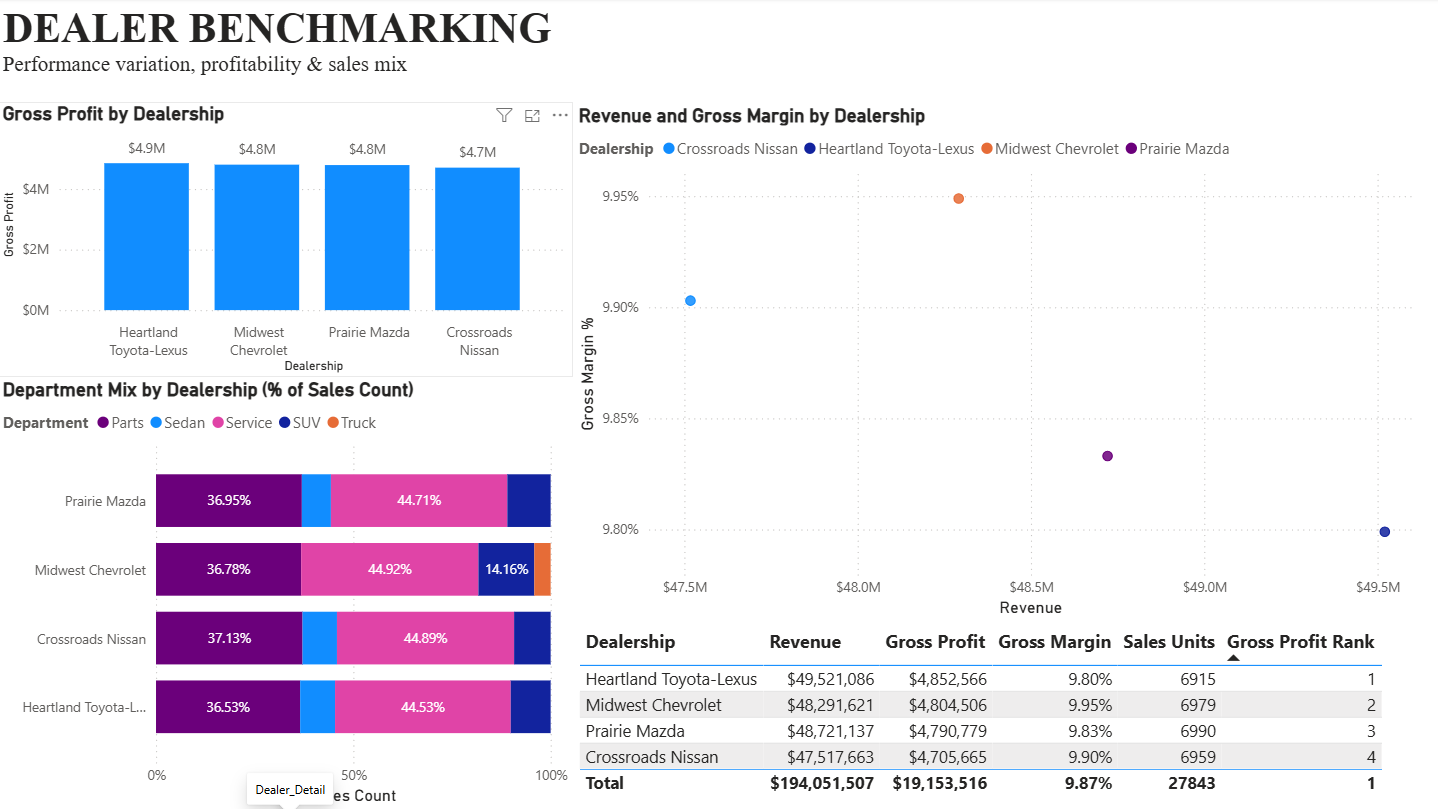

Layout of this report page (visuals, bound fields, positions):
{"tool":"powerbi","page":{"name":"Dealer_Detail","canvas":[1280,720],"ordinal":2},"visuals":[{"type":"textbox","box":[0,0,510.9,92.7],"z":0},{"type":"clusteredColumnChart","fields":{"Category":["dim_dealer.dealership_name"],"Y":["measures_table.Rebate_Adjusted_Gross_Profit"]},"box":[0,91.8,510.9,244.5],"z":1000},{"type":"hundredPercentStackedBarChart","title":"Department Mix by Dealership (% of Sales Count)","fields":{"Category":["dim_dealer.dealership_name"],"Y":["measures_table.Sales_Count"],"Series":["dim_sku.department"]},"box":[0,337.3,510.9,383.6],"z":2000},{"type":"scatterChart","title":"Revenue and Gross Margin by Dealership","fields":{"X":["measures_table.Rebate_Adjusted_Revenue"],"Y":["measures_table.Gross_Profit_%"],"Series":["dim_dealer.dealership_name"]},"box":[510.9,93.6,769.1,460],"z":3000},{"type":"tableEx","fields":{"Values":["dim_dealer.dealership_name","measures_table.Rebate_Adjusted_Revenue","measures_table.Rebate_Adjusted_Gross_Profit","measures_table.Gross_Profit_%","measures_table.Sales_Count","measures_table.Dealer GP Rank"]},"box":[510.9,553.6,769.1,166.4],"z":4000}]}

Visuals, with their boxes in screenshot pixels (x1, y1, x2, y2), scaled from the page's 1280x720 canvas onto the 1438x809 screenshot:
textbox: box=[0, 0, 574, 104]
clusteredColumnChart - dim_dealer.dealership_name x measures_table.Rebate_Adjusted_Gross_Profit: box=[0, 103, 574, 378]
"Department Mix by Dealership (% of Sales Count)" hundredPercentStackedBarChart: box=[0, 379, 574, 808]
"Revenue and Gross Margin by Dealership" scatterChart: box=[574, 105, 1437, 622]
tableEx - dim_dealer.dealership_name x measures_table.Rebate_Adjusted_Revenue: box=[574, 622, 1437, 808]
